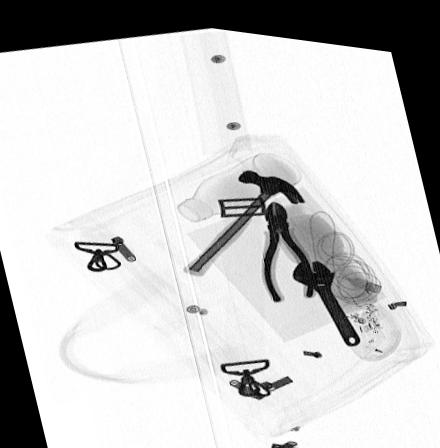Hammer: (183, 162, 307, 273)
Pliers: (260, 190, 317, 295)
Wrench: (291, 251, 359, 337)
